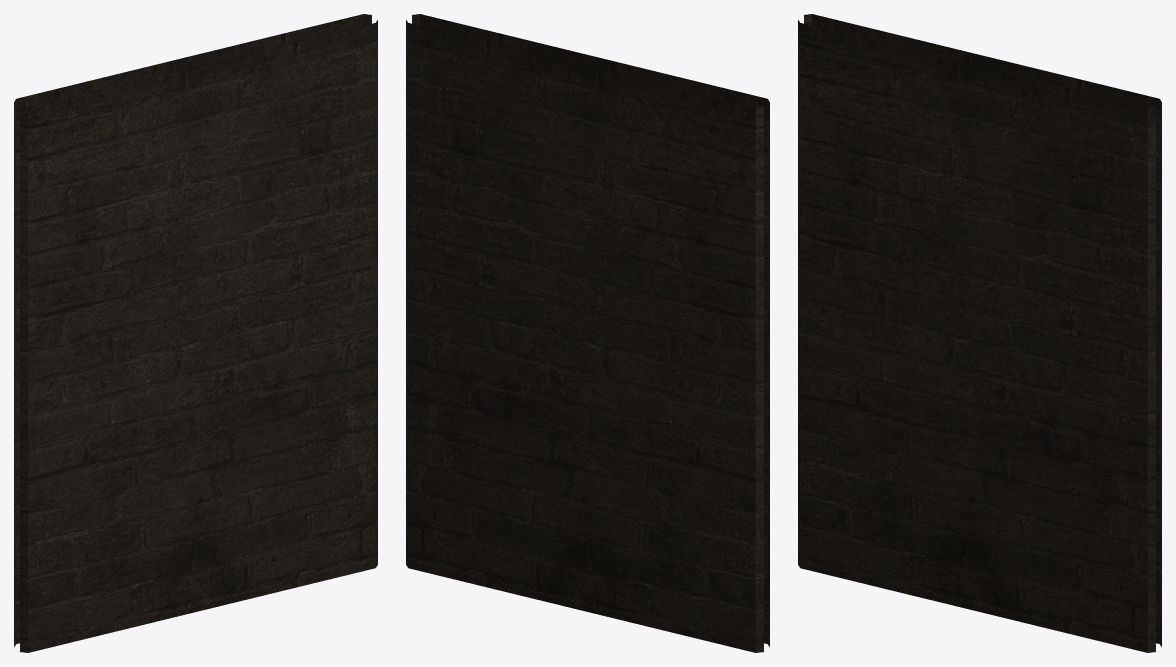
File: wall_1_3_half.glb
The picture shows the model from 3 angles, left to right: view 1: azimuth 30°, elevation 25°; view 2: azimuth 150°, elevation 25°; view 3: azimuth 330°, elevation 25°; orthographic projection.
Parts seen in each view (by area): view 1: wall_1_3_half; view 2: wall_1_3_half; view 3: wall_1_3_half.
Boxes of the visible parts, <box> form: wall_1_3_half: <box>14,14,377,652</box>; wall_1_3_half: <box>406,14,769,652</box>; wall_1_3_half: <box>798,14,1161,652</box>.
Size of the model in its own units: 2.06 by 3 by 0.12.
Materials: 1 (1 with a texture image).
